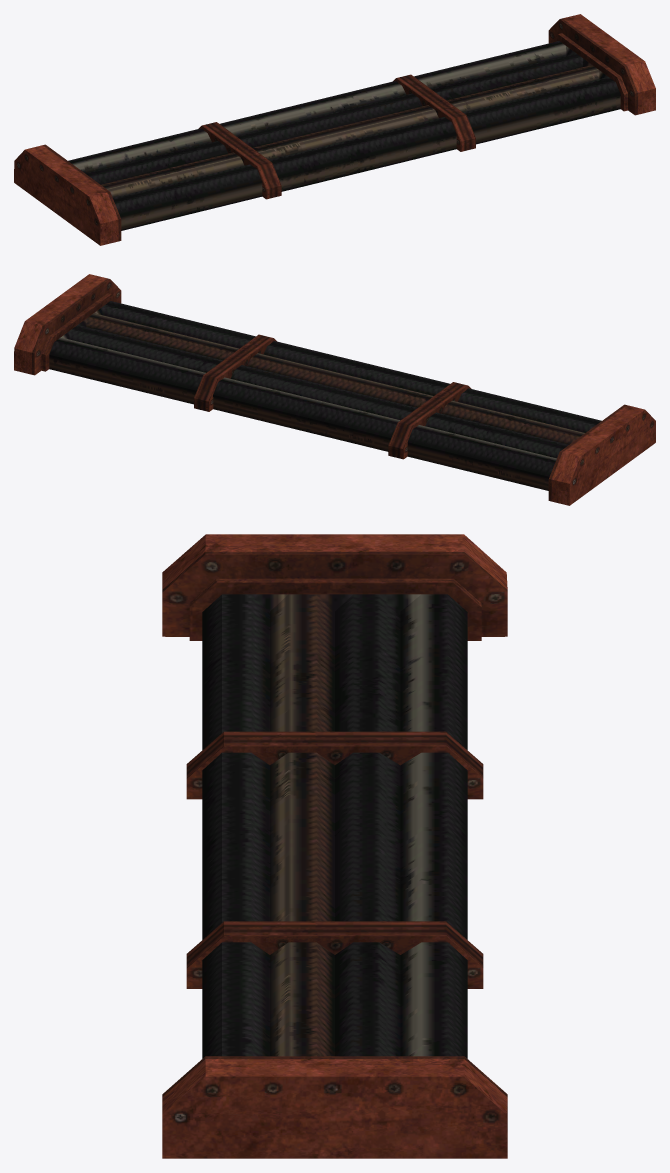
The model's file is cables_wall_short.dae.
3 renders of one model, top to bottom at view 1: azimuth 30°, elevation 25°; view 2: azimuth 150°, elevation 25°; view 3: azimuth 270°, elevation 25°, orthographic. The views are drawn at different scales.
Parts seen in each view (by area): view 1: polySurface827; view 2: polySurface827; view 3: polySurface827.
Boxes of the visible parts, x1,y1,x2,y2 form: polySurface827: (14,14,655,245); polySurface827: (14,274,655,505); polySurface827: (162,534,507,1158).
Size of the model in its own units: 2 by 0.1413 by 0.5389.
